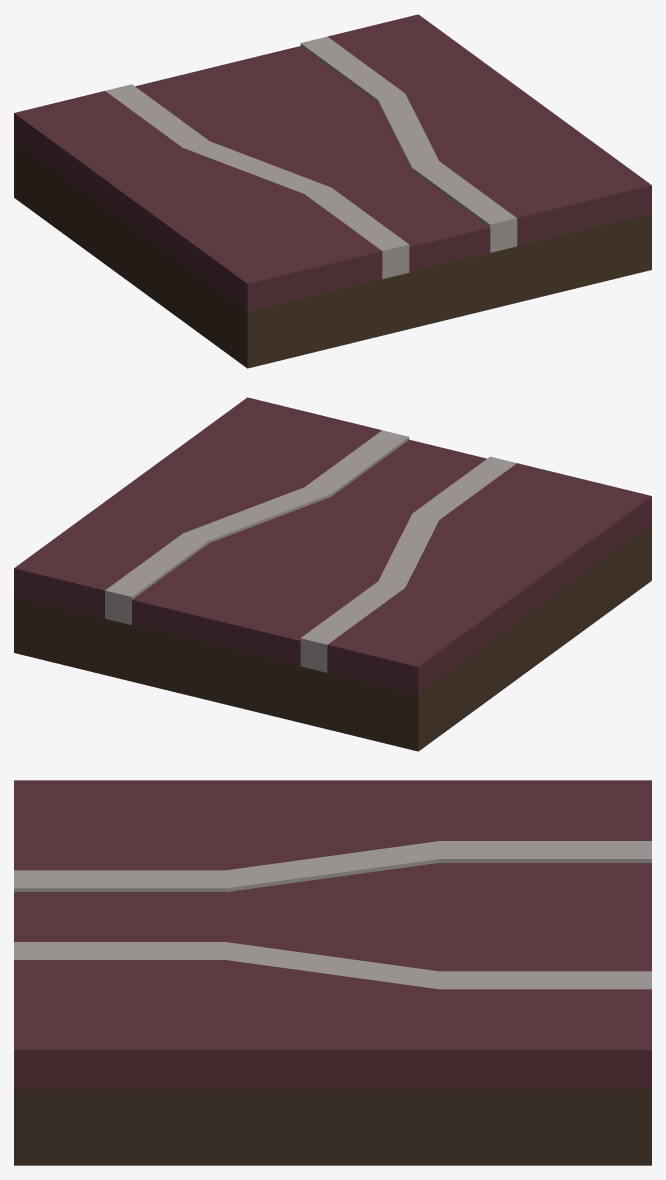
Rendered from tile-road-to-mainroad.fbx.
3 renders of one model, top to bottom at view 1: azimuth 30°, elevation 25°; view 2: azimuth 150°, elevation 25°; view 3: azimuth 270°, elevation 25°, orthographic. The views are drawn at different scales.
Visible parts, largest first — view 1: tile-road-to-mainroad; view 2: tile-road-to-mainroad; view 3: tile-road-to-mainroad.
Boxes of the visible parts, box(x1,y1,x2,y2) form: tile-road-to-mainroad: box(14, 14, 651, 368); tile-road-to-mainroad: box(14, 397, 651, 751); tile-road-to-mainroad: box(14, 780, 651, 1165).
Size of the model in its own units: 30 by 6 by 30.
